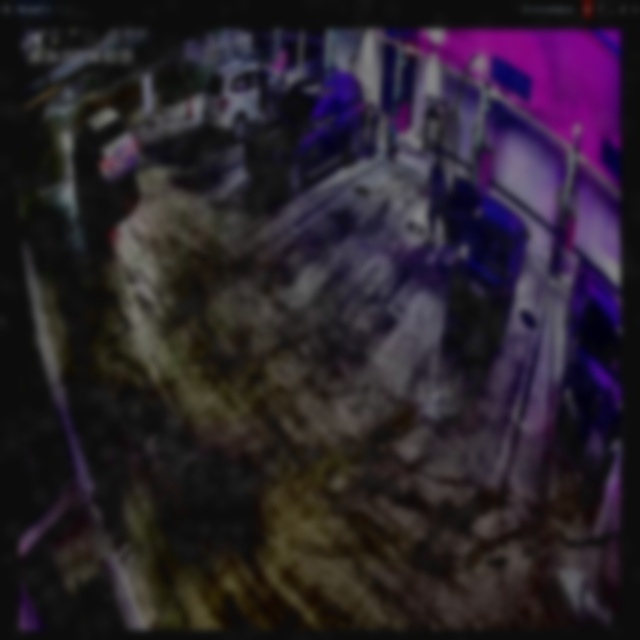Car: (246, 70, 369, 195), (436, 172, 529, 334), (71, 106, 138, 190)
